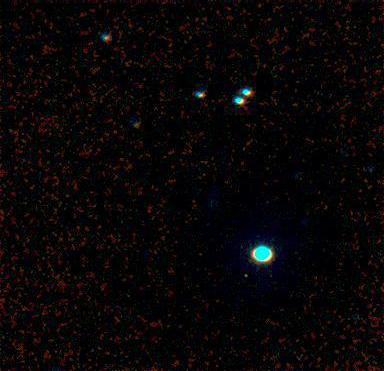star: (232, 263, 262, 293)
